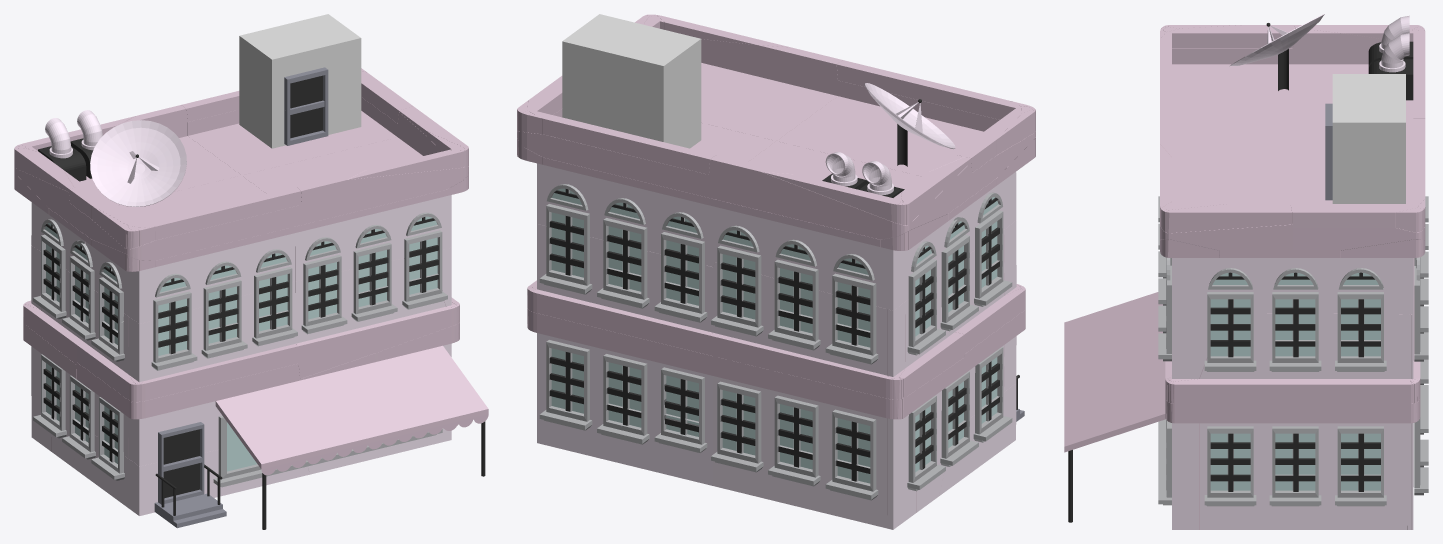
Rendered from parcalıYataybina.fbx.
3 renders of one model, left to right at view 1: azimuth 30°, elevation 25°; view 2: azimuth 150°, elevation 25°; view 3: azimuth 270°, elevation 25°, orthographic. The views are drawn at different scales.
Visible parts, largest first — view 1: Circle, Cube.158, kolonlar_cell.018, kolonlar_cell.092, kolonlar_cell.029, kolonlar_cell.033, Cylinder.003, kolonlar_cell.090, kolonlar_cell.066, kolonlar_cell.062, kolonlar_cell.013, kolonlar_cell.086 (+50 smaller); view 2: Cube.158, kolonlar_cell.049, kolonlar_cell.058, kolonlar_cell.018, kolonlar_cell.086, kolonlar_cell.092, kolonlar_cell.094, kolonlar_cell.027, kolonlar_cell.050, kolonlar_cell.047, kolonlar_cell.066, kolonlar_cell.087 (+59 smaller); view 3: Circle, kolonlar_cell.092, Cube.158, kolonlar_cell.018, kolonlar_cell.035, kolonlar_cell.061, kolonlar_cell.086, kolonlar_cell.096, kolonlar_cell.062, kolonlar_cell.066, kolonlar_cell.070, kolonlar_cell.047 (+42 smaller).
Part boxes in pixels (x1=…): Circle: x1=215, y1=345, x2=488, y2=475; Cube.158: x1=239, y1=14, x2=361, y2=148; kolonlar_cell.018: x1=242, y1=112, x2=468, y2=224; kolonlar_cell.092: x1=70, y1=175, x2=300, y2=260; kolonlar_cell.029: x1=295, y1=258, x2=452, y2=378; kolonlar_cell.033: x1=70, y1=224, x2=300, y2=323; Cylinder.003: x1=90, y1=120, x2=186, y2=206; kolonlar_cell.090: x1=143, y1=281, x2=298, y2=400; kolonlar_cell.066: x1=187, y1=97, x2=397, y2=175; kolonlar_cell.062: x1=295, y1=189, x2=451, y2=281; kolonlar_cell.013: x1=144, y1=363, x2=300, y2=464; kolonlar_cell.086: x1=14, y1=105, x2=241, y2=223; Cube.158: x1=562, y1=14, x2=701, y2=148; kolonlar_cell.049: x1=532, y1=311, x2=712, y2=485; kolonlar_cell.058: x1=709, y1=355, x2=887, y2=528; kolonlar_cell.018: x1=701, y1=39, x2=842, y2=140; kolonlar_cell.086: x1=709, y1=141, x2=972, y2=239; kolonlar_cell.092: x1=777, y1=80, x2=1035, y2=195; kolonlar_cell.094: x1=709, y1=196, x2=972, y2=310; kolonlar_cell.027: x1=709, y1=262, x2=889, y2=398; kolonlar_cell.050: x1=532, y1=224, x2=712, y2=355; kolonlar_cell.047: x1=537, y1=155, x2=714, y2=266; kolonlar_cell.066: x1=517, y1=108, x2=775, y2=197; kolonlar_cell.087: x1=836, y1=60, x2=1021, y2=172; Circle: x1=1064, y1=292, x2=1165, y2=452; kolonlar_cell.092: x1=1172, y1=48, x2=1292, y2=149; Cube.158: x1=1332, y1=74, x2=1405, y2=203; kolonlar_cell.018: x1=1160, y1=119, x2=1292, y2=250; kolonlar_cell.035: x1=1292, y1=404, x2=1412, y2=529; kolonlar_cell.061: x1=1173, y1=404, x2=1292, y2=529; kolonlar_cell.086: x1=1292, y1=28, x2=1425, y2=149; kolonlar_cell.096: x1=1292, y1=313, x2=1412, y2=403; kolonlar_cell.062: x1=1172, y1=250, x2=1292, y2=314; kolonlar_cell.066: x1=1292, y1=149, x2=1425, y2=250; kolonlar_cell.070: x1=1172, y1=313, x2=1292, y2=403; kolonlar_cell.047: x1=1292, y1=250, x2=1413, y2=314.
Size of the model in its own units: 814 by 803 by 667.
